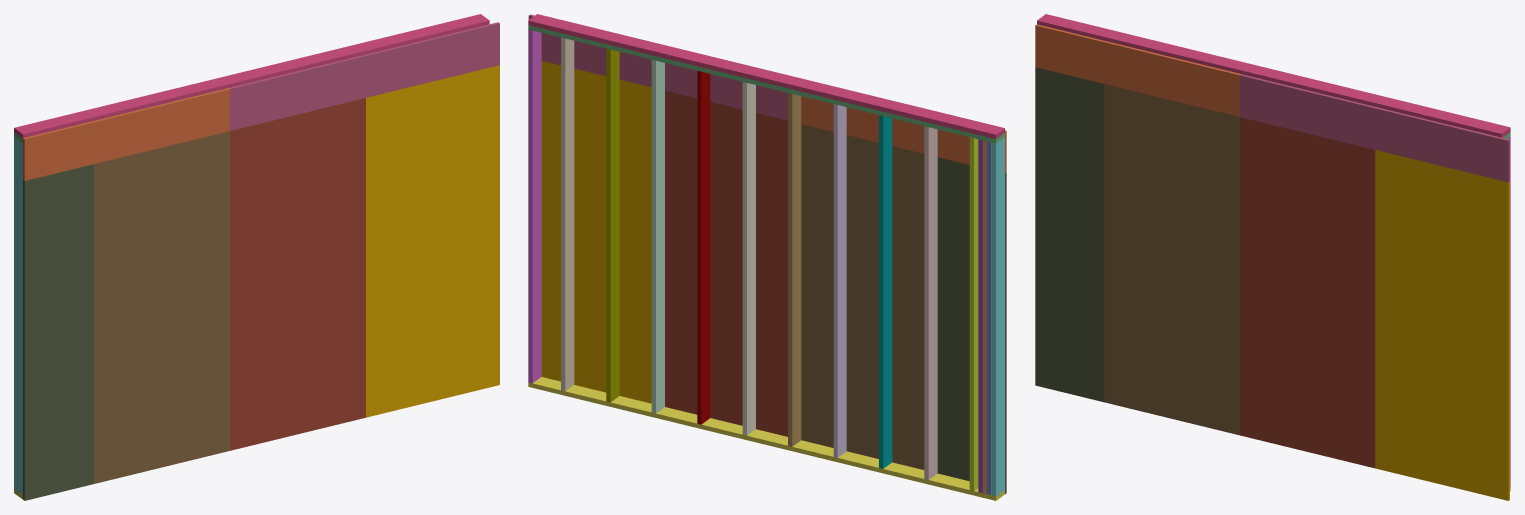
3 renders of one model, left to right at view 1: azimuth 30°, elevation 25°; view 2: azimuth 150°, elevation 25°; view 3: azimuth 330°, elevation 25°, orthographic.
Parts seen in each view (by area): view 1: world; view 2: world; view 3: world.
Boxes of the visible parts, x1,y1,x2,y2 form: world: (14,14,499,500); world: (528,14,1006,500); world: (1035,14,1510,500).
Bounding box in the file's own units: 168 × 123 × 6.5.
